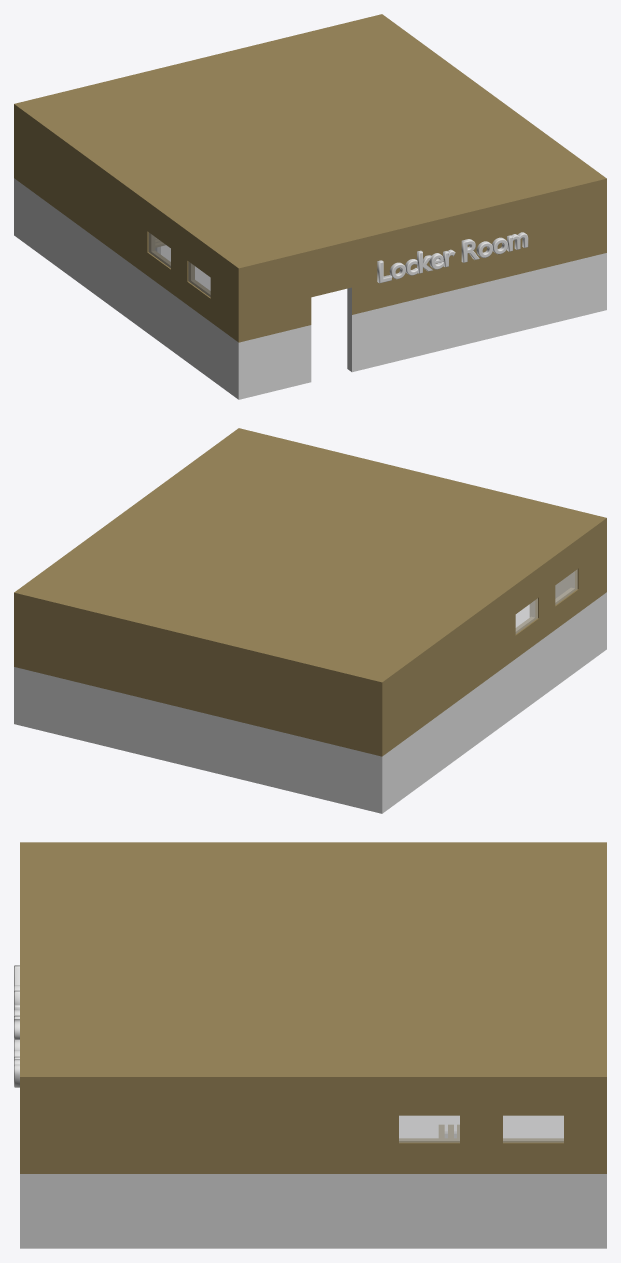
Rendered from LockerRoom.fbx.
The picture shows the model from 3 angles, top to bottom: view 1: azimuth 30°, elevation 25°; view 2: azimuth 150°, elevation 25°; view 3: azimuth 270°, elevation 25°; orthographic projection. The views are drawn at different scales.
Visible parts, largest first — view 1: Cube.013, Text; view 2: Cube.013; view 3: Cube.013, Text.
Boxes of the visible parts, bbox=[...] form: Cube.013: bbox=[14, 14, 606, 399]; Text: bbox=[377, 232, 528, 283]; Cube.013: bbox=[14, 428, 606, 813]; Cube.013: bbox=[20, 842, 606, 1248]; Text: bbox=[14, 965, 19, 1087].
Bounding box in the file's own units: 909 × 311 × 970.
